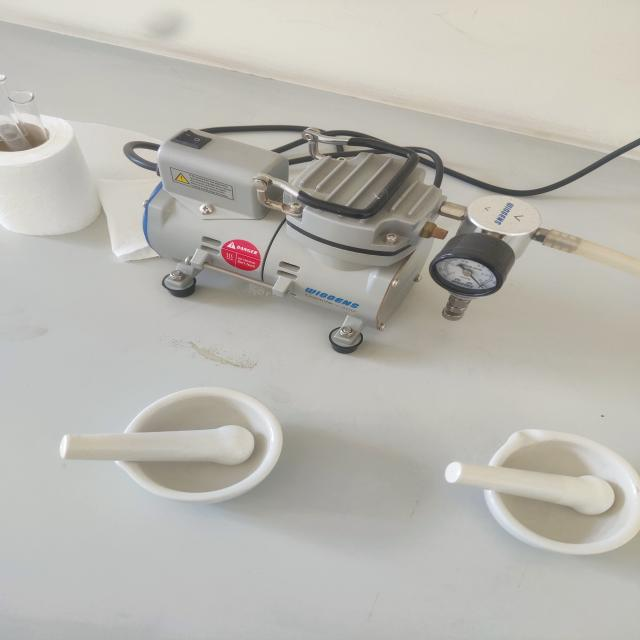Porcelain_Mortar Pestle: (32, 364, 332, 526), (423, 402, 640, 573)
